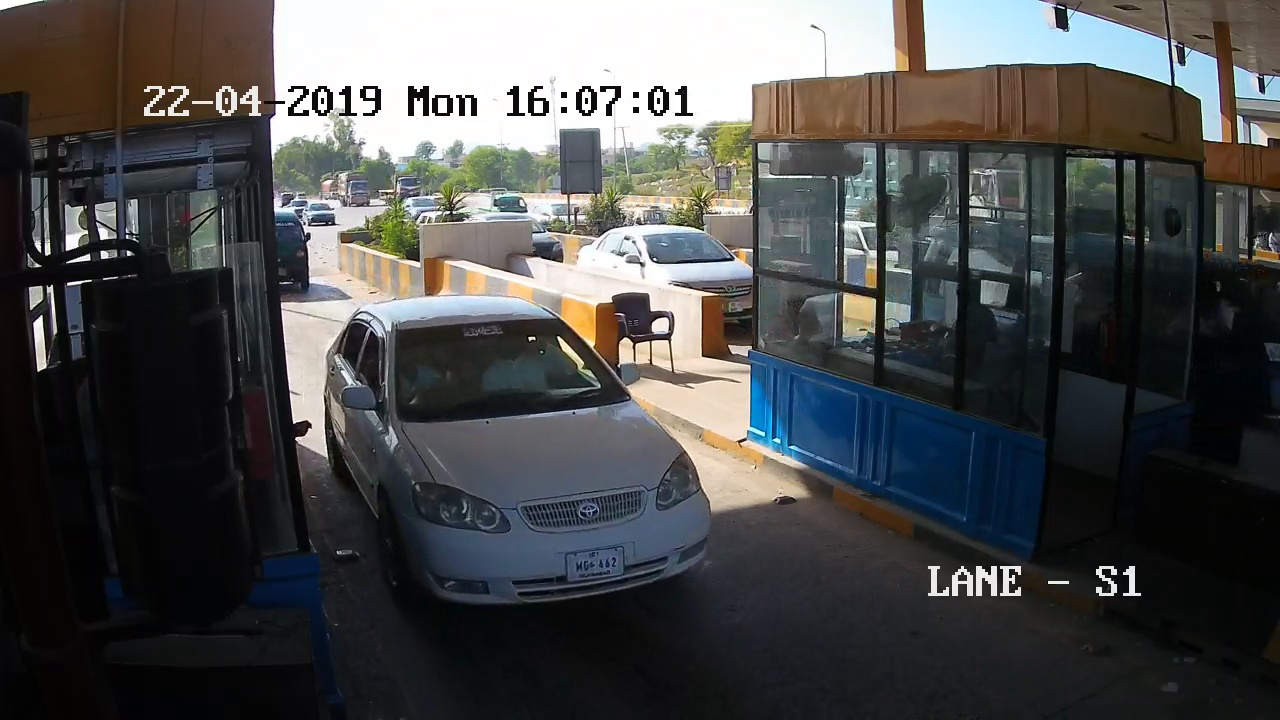Number Plate (Car): (563, 548, 623, 580)
